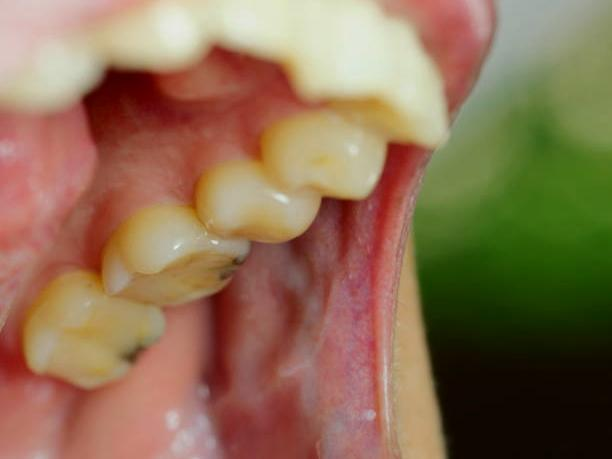Calculus: (104, 218, 254, 321), (24, 293, 168, 392)
